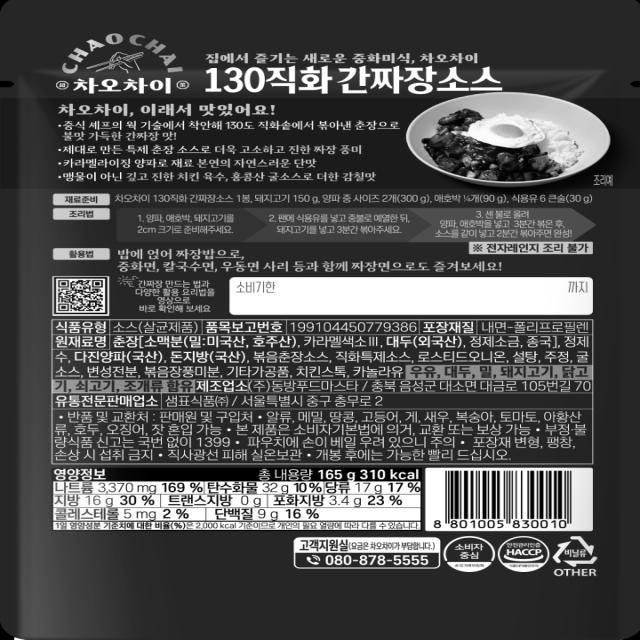Nutrition Label: (39, 464, 431, 544)
